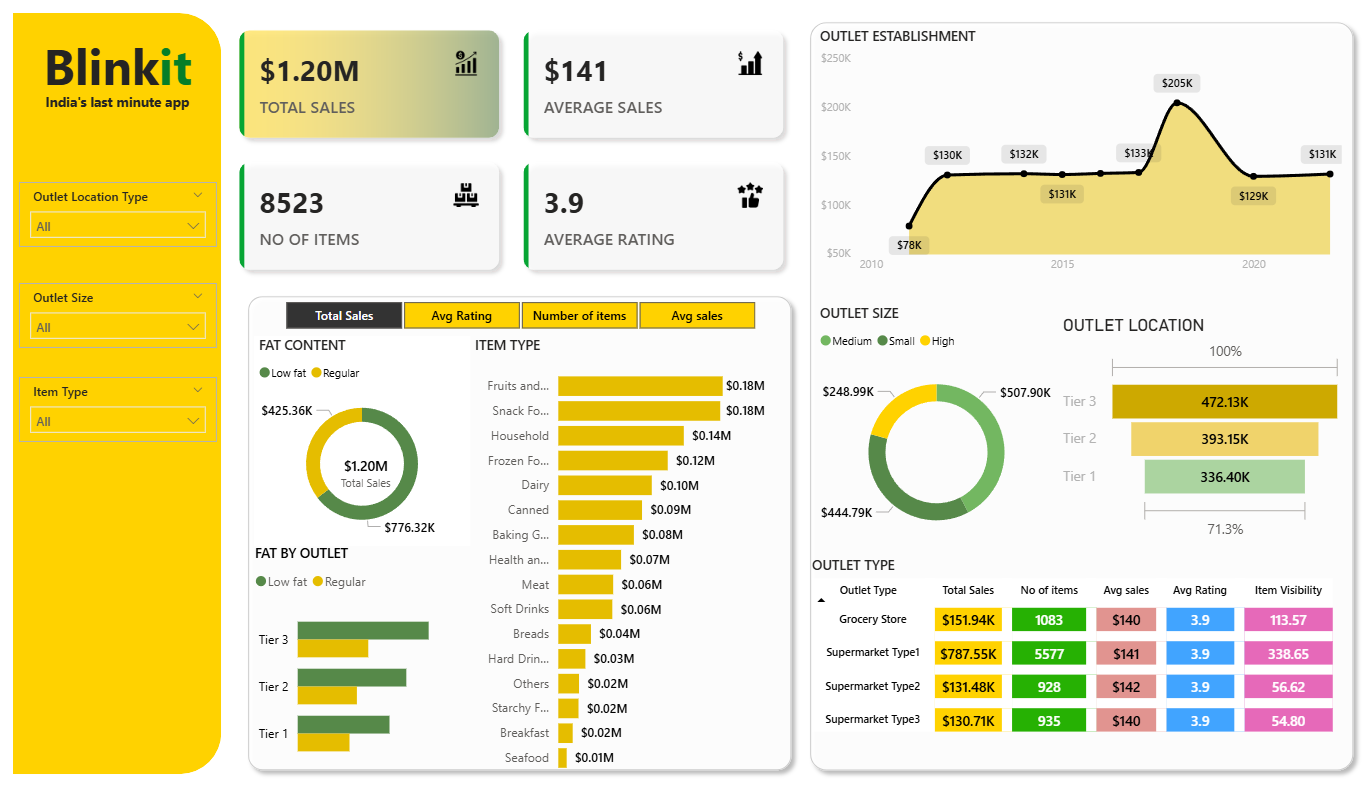

What the dashboard file says about the page in this screenshot:
{"tool":"powerbi","page":{"name":"Page 1","canvas":[1400,800],"ordinal":0},"visuals":[{"type":"shape","box":[19.1,24.5,205.3,750],"z":0},{"type":"textbox","box":[39.4,38.3,164.9,74.5],"z":1000},{"type":"textbox","box":[19.1,98.9,205.3,27.7],"z":2000},{"type":"cardVisual","fields":{"Data":["BlinkIT Grocery Data.Total Sales","BlinkIT Grocery Data.Avg sales","BlinkIT Grocery Data.Number of items","BlinkIT Grocery Data.Avg Rating"]},"box":[224.5,24.5,570.2,270.2],"z":3000},{"type":"shape","box":[241.5,294.7,553.2,485.1],"z":4000},{"type":"donutChart","title":"FAT CONTENT","fields":{"Y":["BlinkIT Grocery Data.Total Sales"],"Category":["BlinkIT Grocery Data.Item Fat Content"]},"box":[256.4,342.6,212.8,207.4],"z":5000},{"type":"slicer","fields":{"Values":["metrics.metrics"]},"box":[261.7,302.1,511.7,40.4],"z":6000},{"type":"cardVisual","fields":{"Data":["BlinkIT Grocery Data.Total Sales"]},"box":[320.2,445.7,92.6,66],"z":7000},{"type":"clusteredBarChart","title":"FAT BY OUTLET","fields":{"Y":["BlinkIT Grocery Data.Total Sales"],"Category":["BlinkIT Grocery Data.Outlet Location Type"],"Series":["BlinkIT Grocery Data.Item Fat Content"]},"box":[252.1,547.9,220.2,229.8],"z":8000},{"type":"barChart","title":"ITEM TYPE","fields":{"Y":["BlinkIT Grocery Data.Total Sales"],"Category":["BlinkIT Grocery Data.Item Type"]},"box":[469.1,342.6,295.7,440.4],"z":9000},{"type":"shape","box":[794.7,24.5,553.2,755.3],"z":10000},{"type":"lineChart","title":"OUTLET ESTABLISHMENT","fields":{"Category":["BlinkIT Grocery Data.Outlet Establishment Year"],"Y":["BlinkIT Grocery Data.Total Sales"]},"box":[808.5,38.3,524.5,252.1],"z":11000},{"type":"donutChart","title":"OUTLET SIZE","fields":{"Y":["BlinkIT Grocery Data.Total Sales"],"Category":["BlinkIT Grocery Data.Outlet Size"]},"box":[808.5,311.7,239.4,247.9],"z":12000},{"type":"funnel","title":"OUTLET LOCATION","fields":{"Category":["BlinkIT Grocery Data.Outlet Location Type"],"Y":["Sum(BlinkIT Grocery Data.Sales)"]},"box":[1047.9,322.3,285.1,225.5],"z":13000},{"type":"pivotTable","title":"OUTLET TYPE","fields":{"Rows":["BlinkIT Grocery Data.Outlet Type"],"Values":["BlinkIT Grocery Data.Total Sales","BlinkIT Grocery Data.Number of items","BlinkIT Grocery Data.Avg sales","BlinkIT Grocery Data.Avg Rating","Sum(BlinkIT Grocery Data.Item Visibility)"]},"box":[801.1,559.6,539.4,203.2],"z":14000},{"type":"slicer","fields":{"Values":["BlinkIT Grocery Data.Outlet Location Type"]},"box":[24.5,191.5,194.7,63.8],"z":15000},{"type":"slicer","fields":{"Values":["BlinkIT Grocery Data.Outlet Size"]},"box":[24.5,290.4,194.7,63.8],"z":16000},{"type":"slicer","fields":{"Values":["BlinkIT Grocery Data.Item Type"]},"box":[24.5,383,194.7,63.8],"z":17000}]}

Visuals, with their boxes in screenshot pixels (x1, y1, x2, y2), scaled from the page's 1400x800 canvas onto the 1372x786 screenshot:
shape: x1=19, y1=24, x2=220, y2=761
textbox: x1=39, y1=38, x2=200, y2=111
textbox: x1=19, y1=97, x2=220, y2=124
cardVisual - BlinkIT Grocery Data.Total Sales x BlinkIT Grocery Data.Avg sales: x1=220, y1=24, x2=779, y2=290
shape: x1=237, y1=290, x2=779, y2=766
"FAT CONTENT" donutChart: x1=251, y1=337, x2=460, y2=540
slicer - metrics.metrics: x1=256, y1=297, x2=758, y2=337
cardVisual - BlinkIT Grocery Data.Total Sales: x1=314, y1=438, x2=405, y2=503
"FAT BY OUTLET" clusteredBarChart: x1=247, y1=538, x2=463, y2=764
"ITEM TYPE" barChart: x1=460, y1=337, x2=750, y2=769
shape: x1=779, y1=24, x2=1321, y2=766
"OUTLET ESTABLISHMENT" lineChart: x1=792, y1=38, x2=1306, y2=285
"OUTLET SIZE" donutChart: x1=792, y1=306, x2=1027, y2=550
"OUTLET LOCATION" funnel: x1=1027, y1=317, x2=1306, y2=538
"OUTLET TYPE" pivotTable: x1=785, y1=550, x2=1314, y2=749
slicer - BlinkIT Grocery Data.Outlet Location Type: x1=24, y1=188, x2=215, y2=251
slicer - BlinkIT Grocery Data.Outlet Size: x1=24, y1=285, x2=215, y2=348
slicer - BlinkIT Grocery Data.Item Type: x1=24, y1=376, x2=215, y2=439
